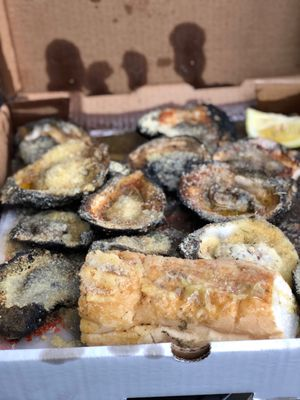salad: (79, 170, 167, 231), (133, 103, 235, 148), (128, 136, 210, 171)
sandwich: (0, 114, 300, 364)
